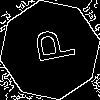P: (25, 25, 76, 67)
